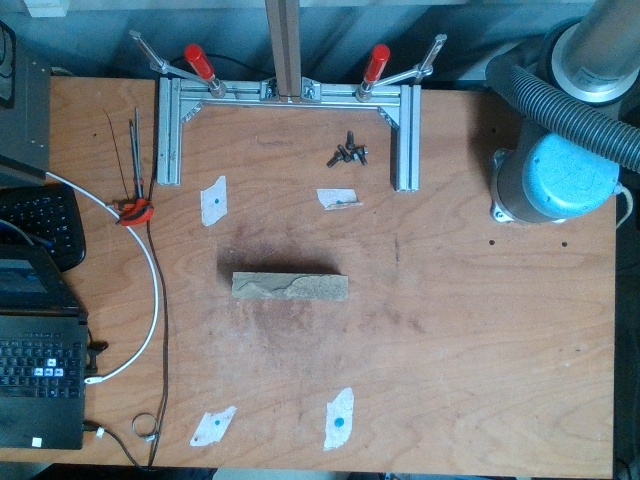brick-side: (232, 274, 346, 299)
